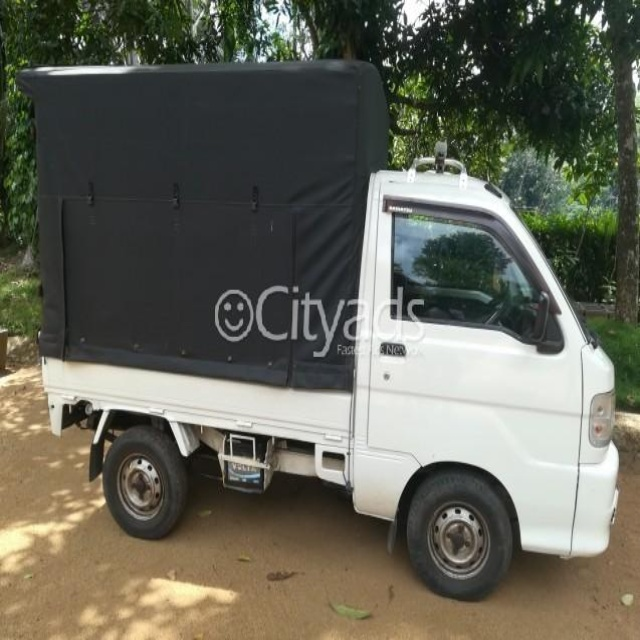Truck: (15, 59, 619, 602)
